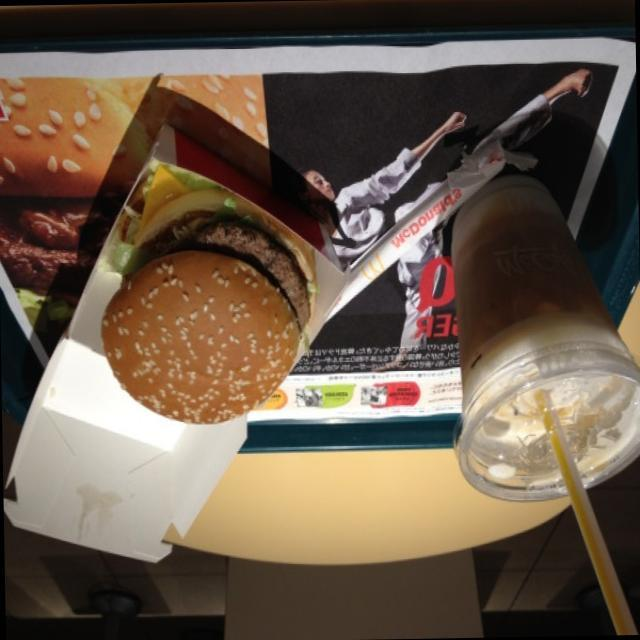Hamburger: (96, 191, 330, 433)
